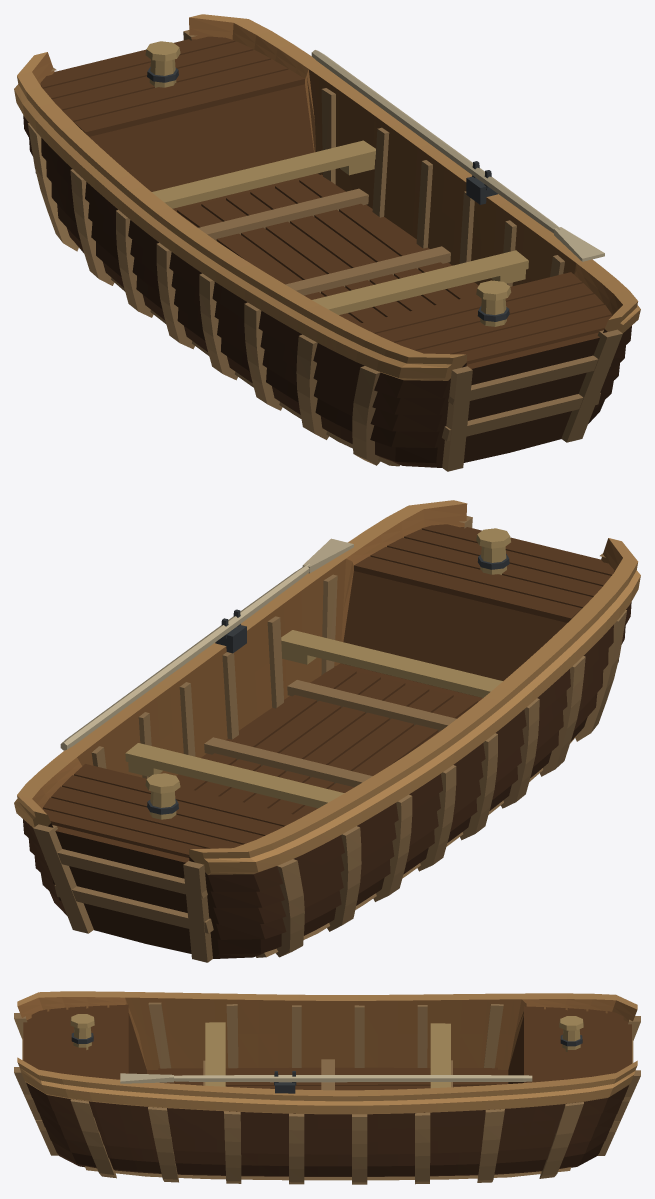
File: cargo_barge.glb
The picture shows the model from 3 angles, top to bottom: view 1: azimuth 30°, elevation 25°; view 2: azimuth 150°, elevation 25°; view 3: azimuth 270°, elevation 25°; orthographic projection. The views are drawn at different scales.
Parts seen in each view (by area): view 1: hull, pole-oar-mesh; view 2: hull, pole-oar-mesh; view 3: hull, pole-oar-mesh.
Boxes of the visible parts, left/top/right/bottom form: hull: left=14, top=14, right=640, bottom=471; pole-oar-mesh: left=311, top=50, right=604, bottom=261; hull: left=14, top=500, right=640, bottom=962; pole-oar-mesh: left=60, top=538, right=353, bottom=750; hull: left=14, top=991, right=640, bottom=1184; pole-oar-mesh: left=120, top=1073, right=532, bottom=1083.
Size of the model in its own units: 2.8 by 1.53 by 7.03.
